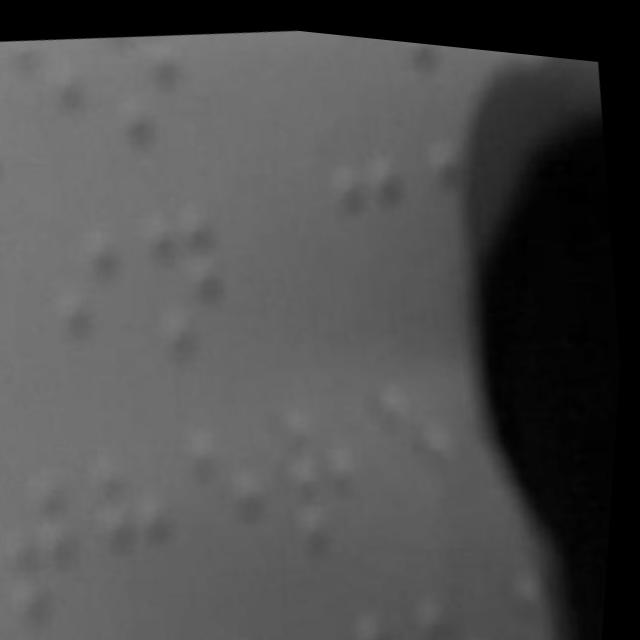braiile: (315, 132, 437, 337), (135, 186, 254, 391), (84, 428, 208, 621), (363, 350, 486, 544), (41, 215, 160, 408), (178, 401, 297, 590), (275, 381, 394, 568), (0, 460, 106, 640), (1, 31, 107, 198), (101, 24, 206, 165), (415, 565, 513, 640), (327, 596, 420, 640), (0, 56, 17, 202)
